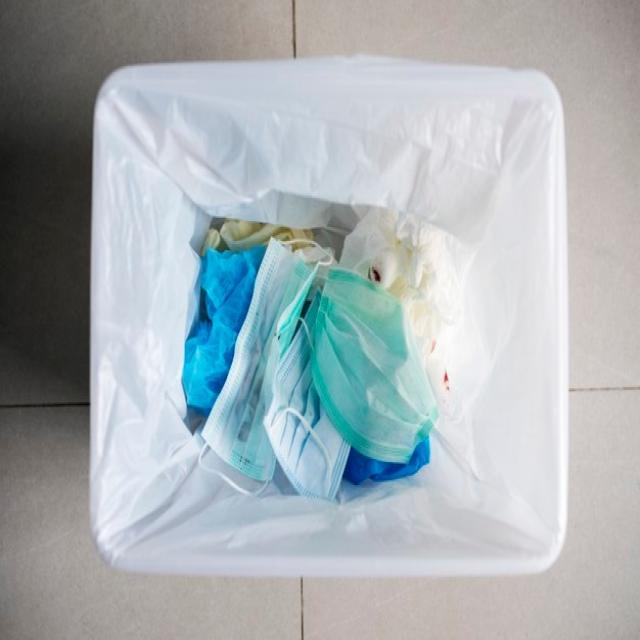non-organic waste: (220, 243, 368, 507), (295, 258, 447, 462)
